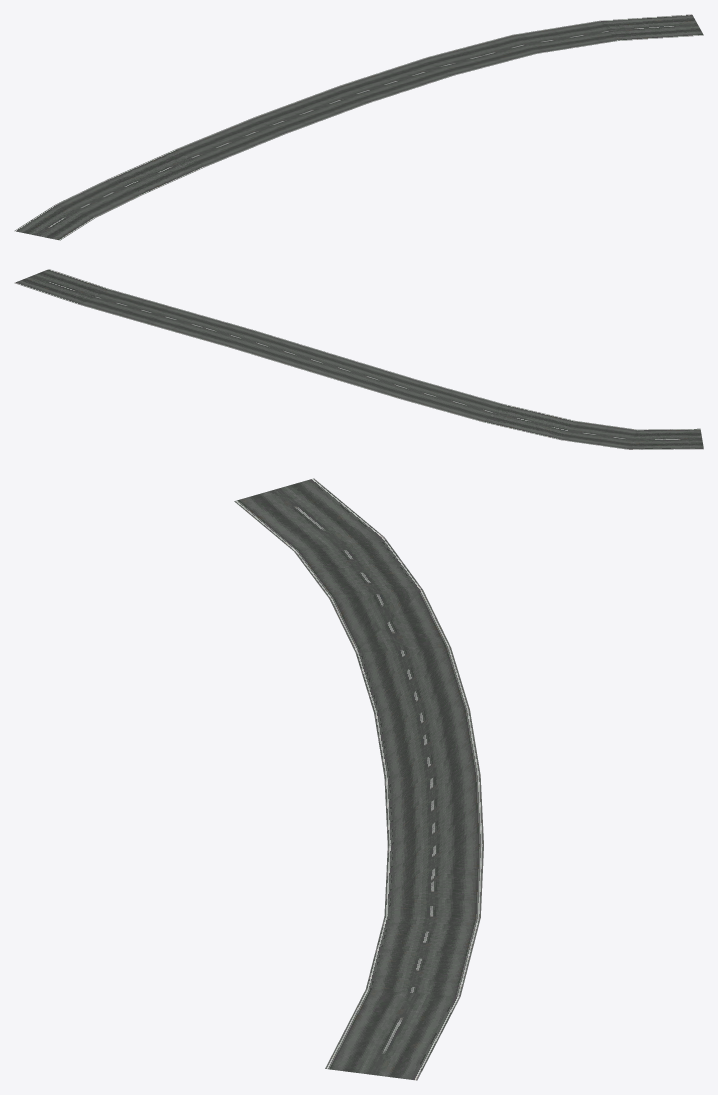
The model's file is lodcuntwroad65.obj.
3 renders of one model, top to bottom at view 1: azimuth 30°, elevation 25°; view 2: azimuth 150°, elevation 25°; view 3: azimuth 270°, elevation 25°, orthographic. The views are drawn at different scales.
Parts seen in each view (by area): view 1: LODcuntwroad65; view 2: LODcuntwroad65; view 3: LODcuntwroad65.
Part boxes in pixels (box(x1,y1,x2,y2)): LODcuntwroad65: box(14, 14, 703, 240); LODcuntwroad65: box(14, 269, 703, 449); LODcuntwroad65: box(234, 478, 483, 1080).
Bounding box in the file's own units: 191 × 8.6 × 31.16.
Materials: 1 (1 with a texture image).
